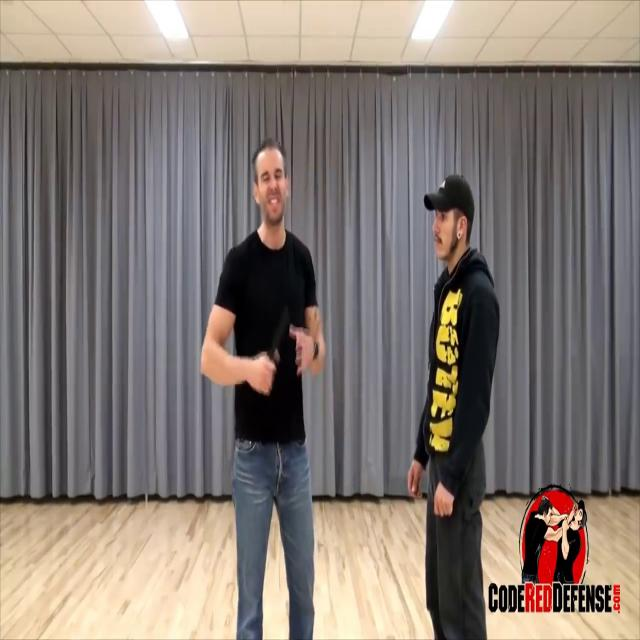Knife_Handle: (249, 304, 289, 395)
